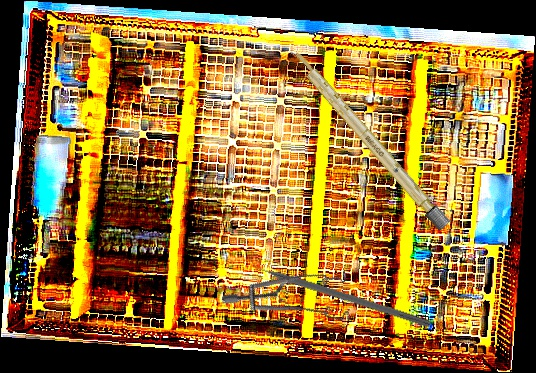Chopper: (242, 250, 434, 328)
Scalpel Handle: (286, 45, 451, 232)
Speculum: (220, 238, 367, 370)
